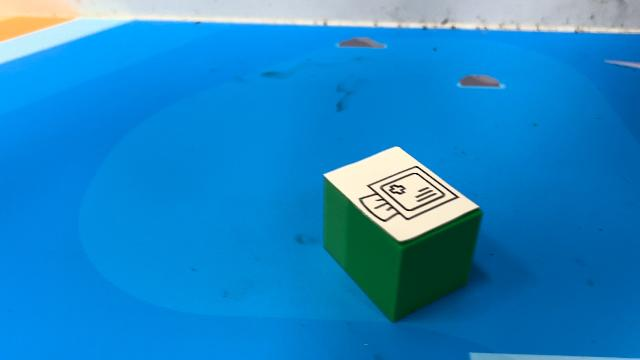napkin: (320, 144, 484, 322)
